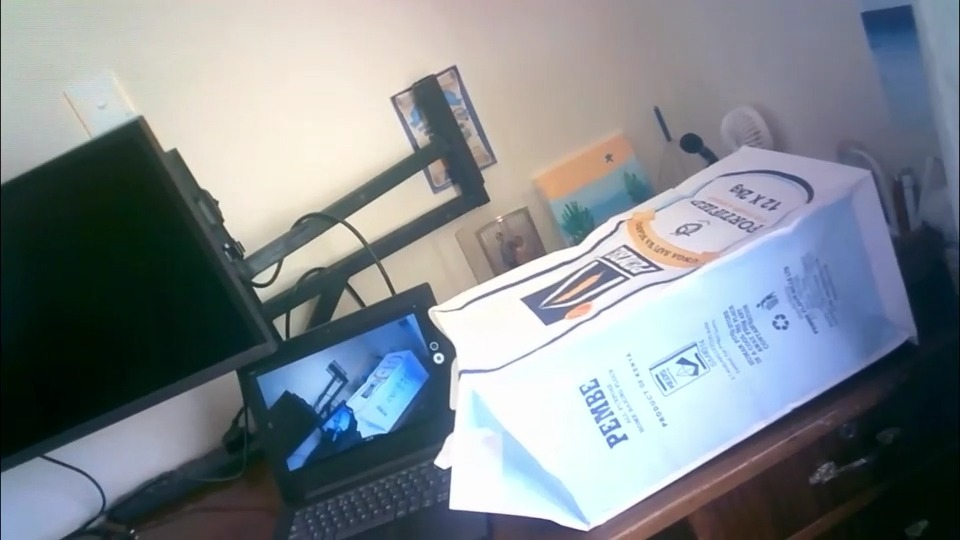wheat_flour_blue_label: (428, 145, 915, 522)
